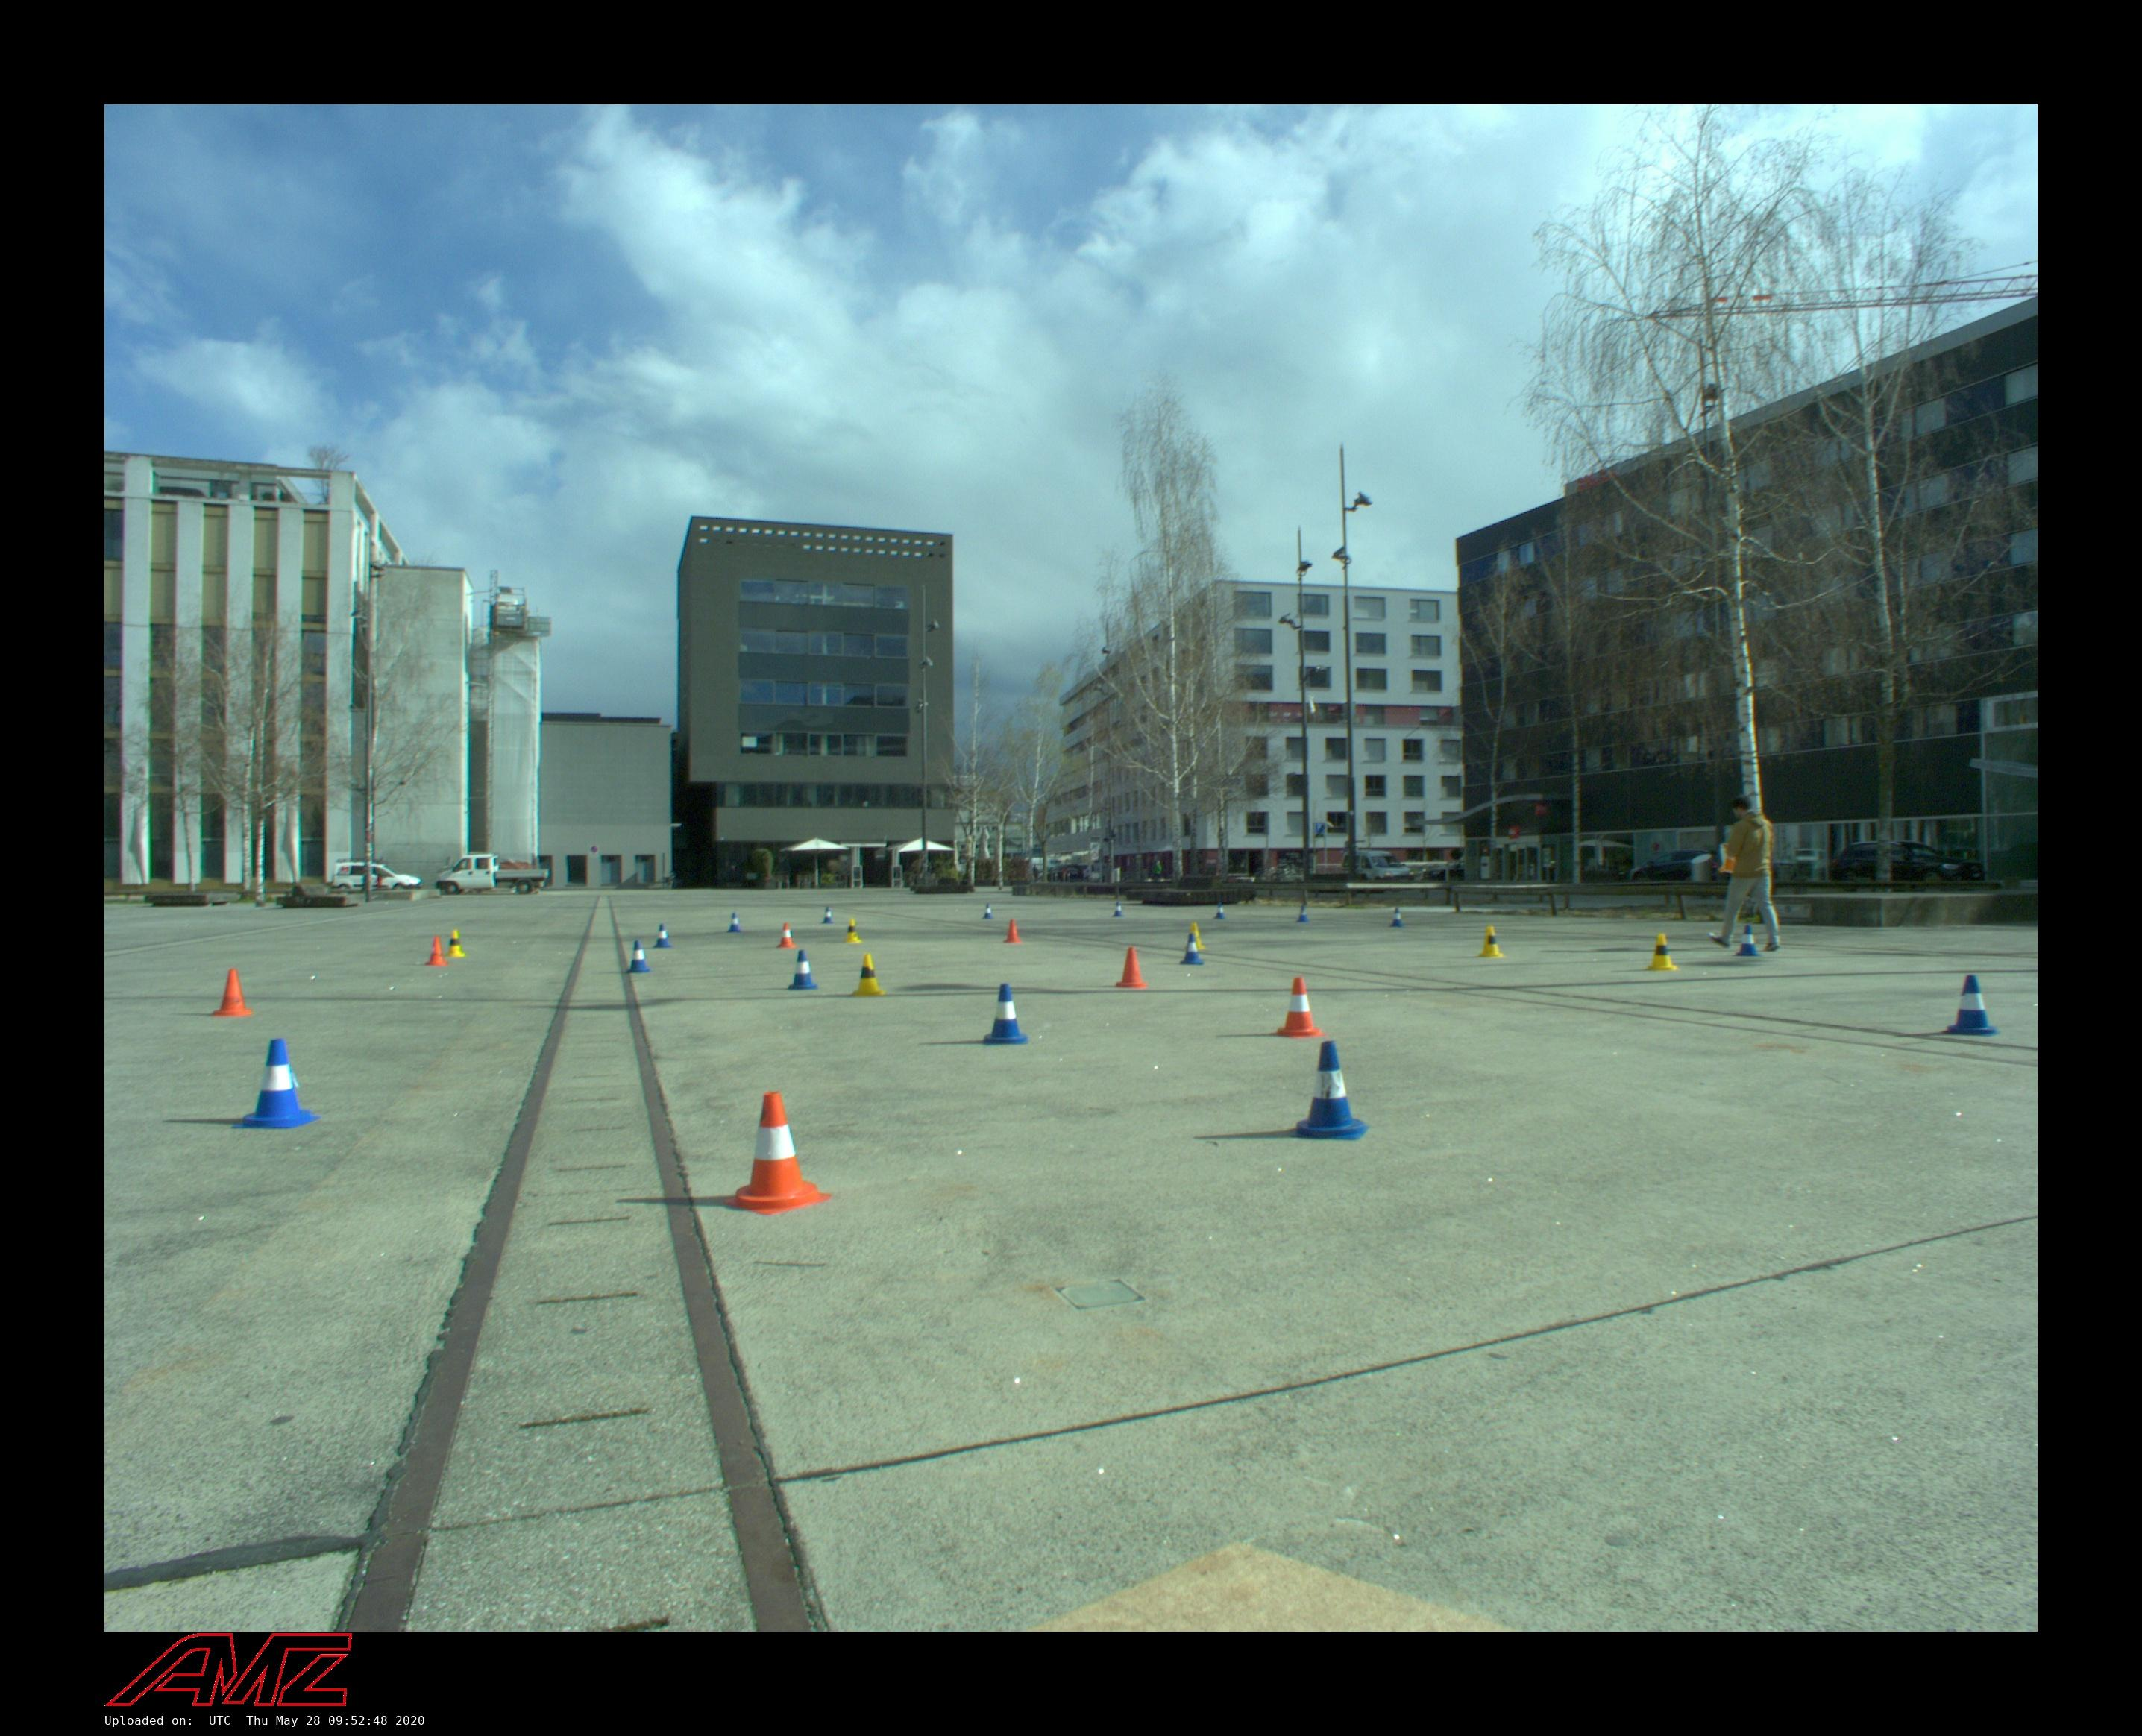blue_cone: (230, 1038, 321, 1130), (1288, 1040, 1370, 1141), (1942, 974, 2000, 1038), (983, 983, 1029, 1045), (788, 949, 819, 990), (1733, 925, 1761, 957), (625, 941, 652, 973), (1180, 934, 1205, 965), (652, 925, 673, 948), (726, 912, 744, 932), (1295, 905, 1311, 923), (1389, 909, 1405, 926), (820, 907, 834, 925), (982, 903, 996, 919), (1111, 902, 1125, 918), (1214, 903, 1226, 919)
orange_cone: (721, 1091, 833, 1217), (1274, 978, 1325, 1038), (213, 969, 253, 1017), (1114, 946, 1148, 988), (425, 935, 448, 967), (776, 923, 797, 948), (1003, 919, 1022, 944)
yellow_cone: (850, 953, 886, 996), (1646, 934, 1680, 973), (1478, 925, 1506, 958), (1184, 923, 1207, 949), (445, 930, 466, 958), (843, 919, 863, 944)
